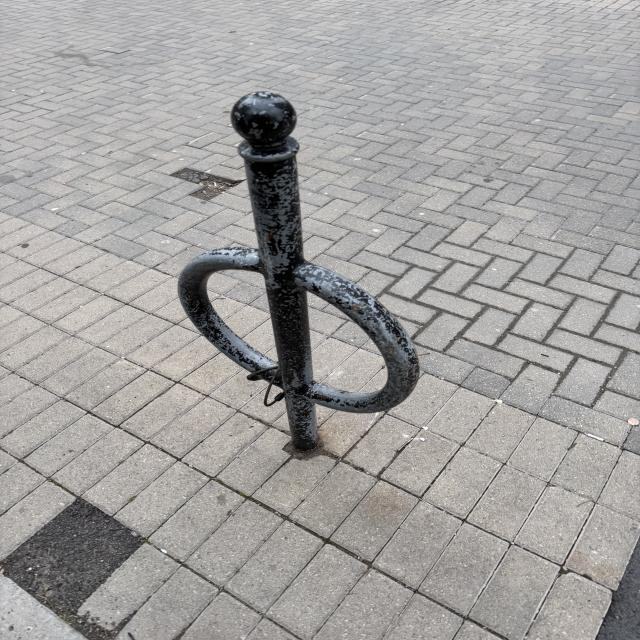Bicycle Rack: (176, 93, 419, 451)
